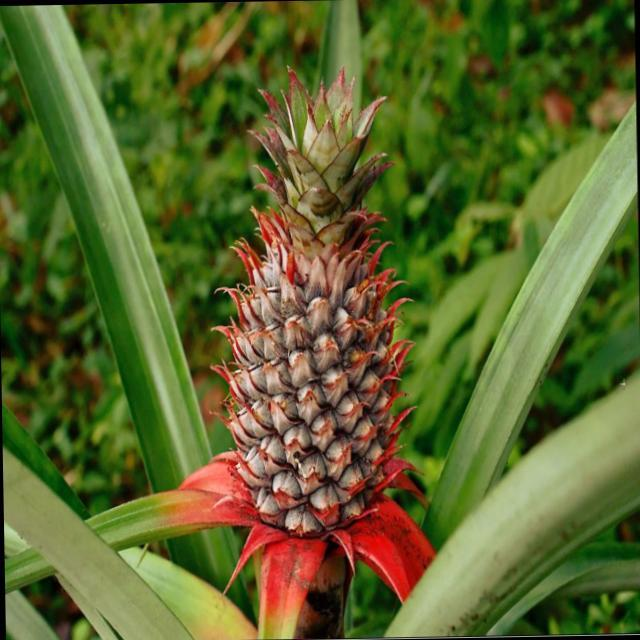PINEAPLE: (215, 71, 412, 538)
